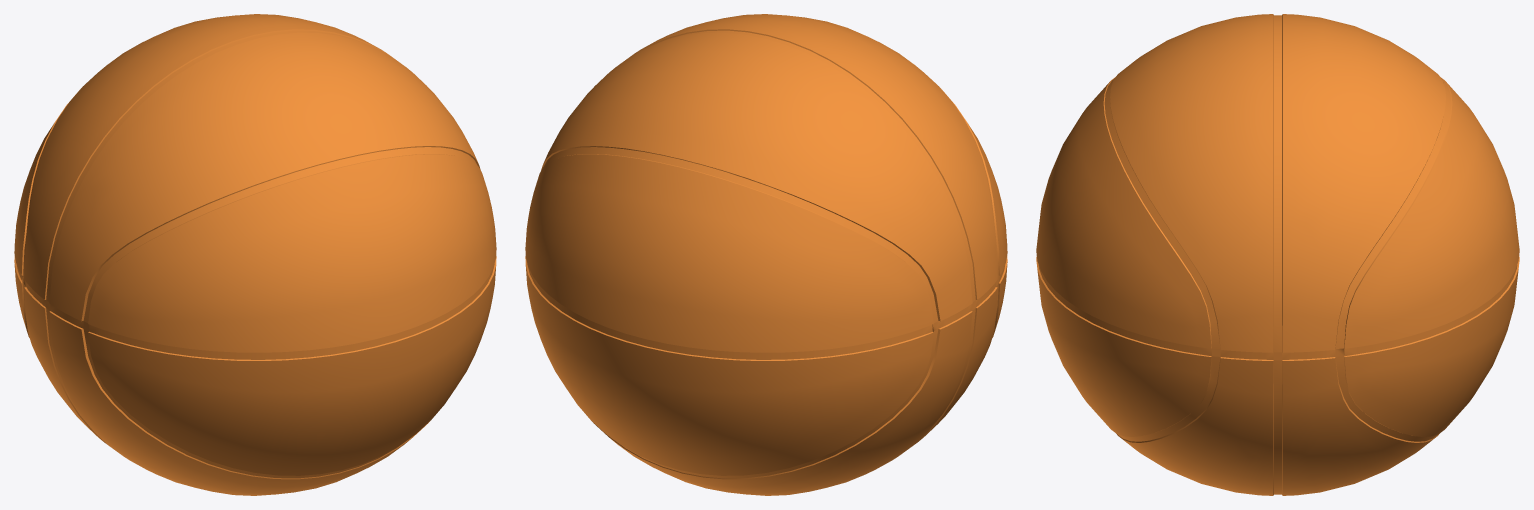
File: basketball.glb
3 renders of one model, left to right at view 1: azimuth 30°, elevation 25°; view 2: azimuth 150°, elevation 25°; view 3: azimuth 270°, elevation 25°, orthographic.
Parts seen in each view (by area): view 1: BASKET BALL; view 2: BASKET BALL; view 3: BASKET BALL.
Boxes of the visible parts, bbox=[...] form: BASKET BALL: bbox=[14, 14, 496, 495]; BASKET BALL: bbox=[525, 14, 1007, 495]; BASKET BALL: bbox=[1036, 14, 1519, 495].
Size of the model in its own units: 0.4422 by 0.4424 by 0.4435.
